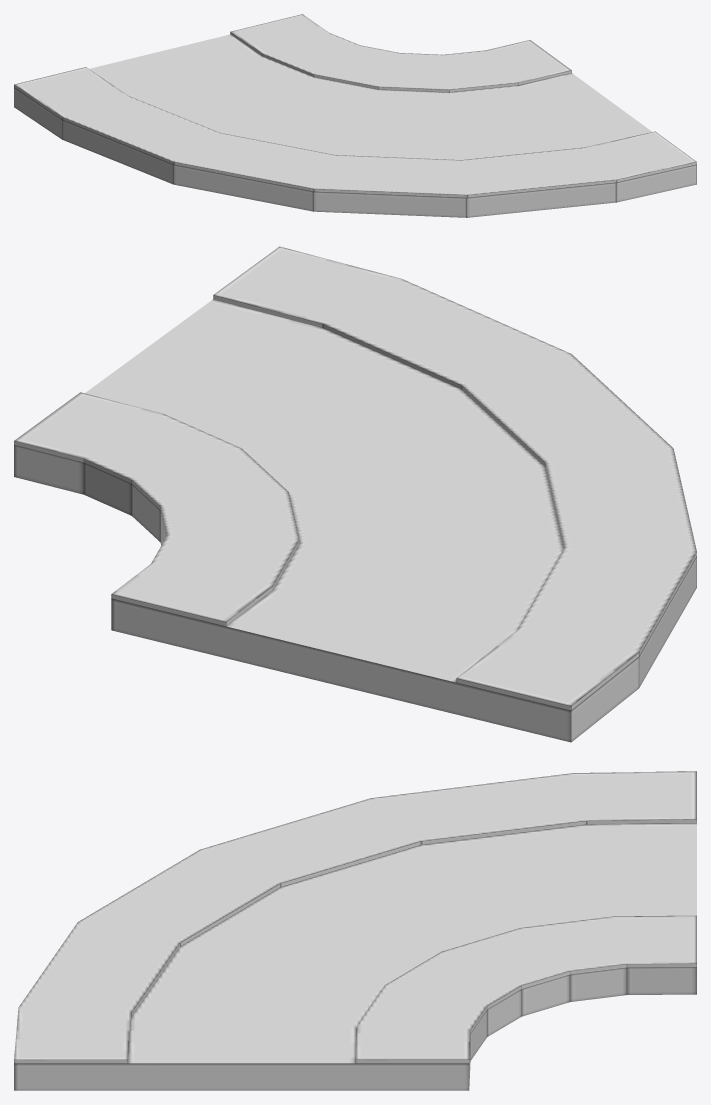
File: Road-06.fbx
3 views of the same model, one above another, from view 1: azimuth 30°, elevation 25°; view 2: azimuth 150°, elevation 25°; view 3: azimuth 270°, elevation 25° (orthographic). The views are drawn at different scales.
Visible parts, largest first — view 1: Road_06; view 2: Road_06; view 3: Road_06.
Boxes of the visible parts, bbox=[...] form: Road_06: bbox=[14, 14, 696, 217]; Road_06: bbox=[14, 246, 696, 742]; Road_06: bbox=[14, 771, 696, 1090].
Bounding box in the file's own units: 6 × 0.3 × 6.
